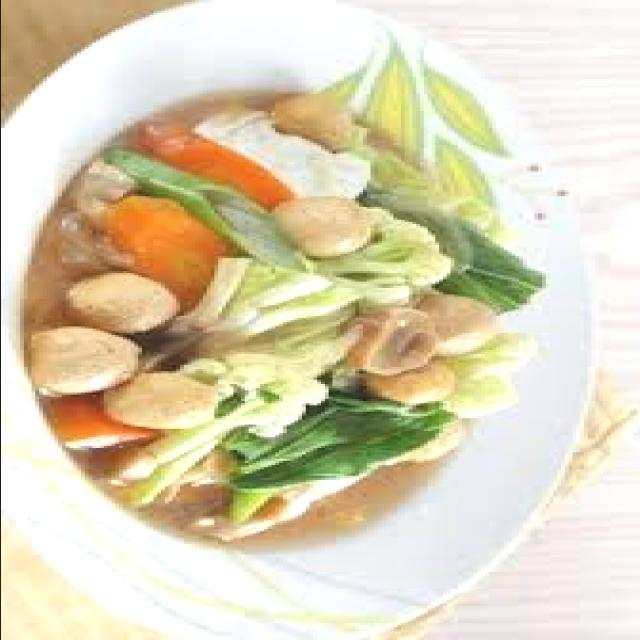capcay: (15, 36, 545, 555)
